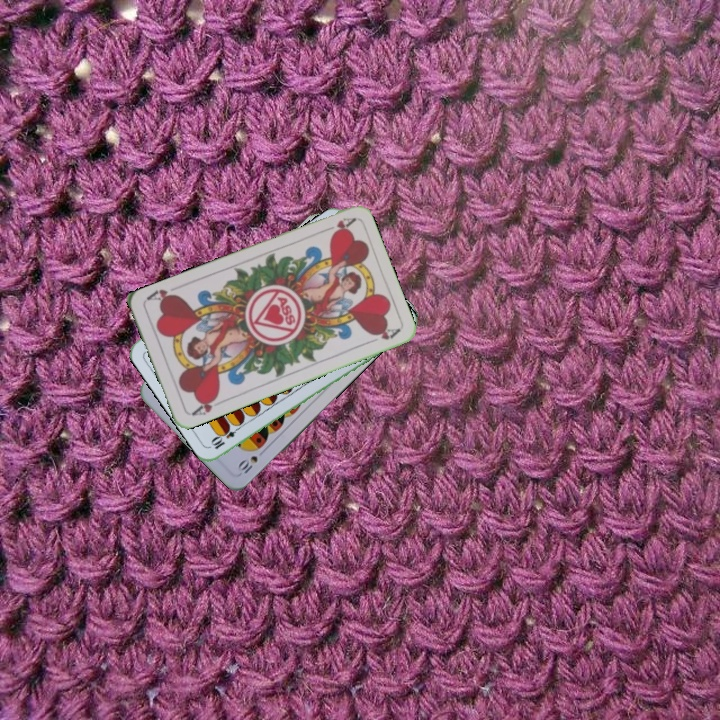E10: (208, 421, 244, 452)
HA: (318, 213, 357, 238), (187, 392, 221, 418)
S10: (233, 452, 260, 476)
